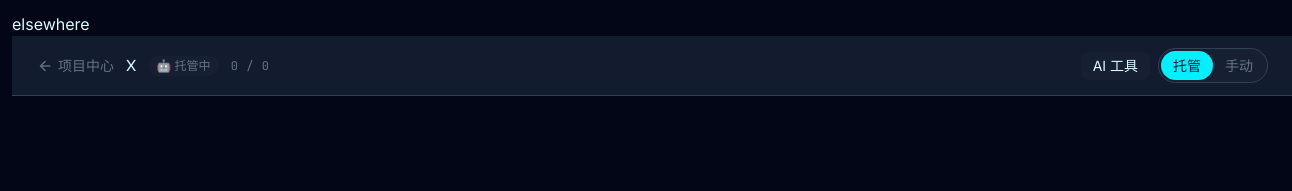
WorkspaceTopBar › AI-tools dropdown closes on outside click
The width and height of the screenshot is (1292, 191).
Expected: the text "0 / 0" is shown, x1=231 y1=58 x2=270 y2=74
Click the button with test id "topbar-ai-tools": [1115, 66] box x1=1081 y1=52 x2=1150 y2=80
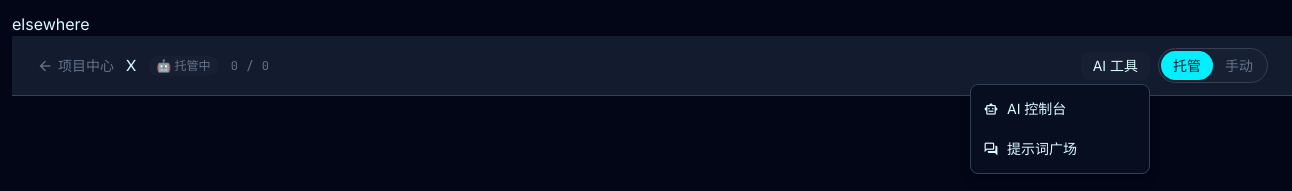
Expected: the menu with test id "topbar-ai-tools-dropdown" is shown, x1=970 y1=84 x2=1150 y2=174
Press the mouse on the text with test id "outside": [51, 24] box x1=12 y1=14 x2=90 y2=34
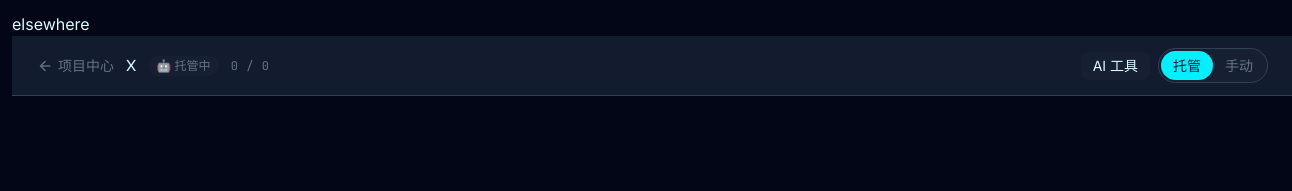
Expected: the menu with test id "topbar-ai-tools-dropdown" is gone
